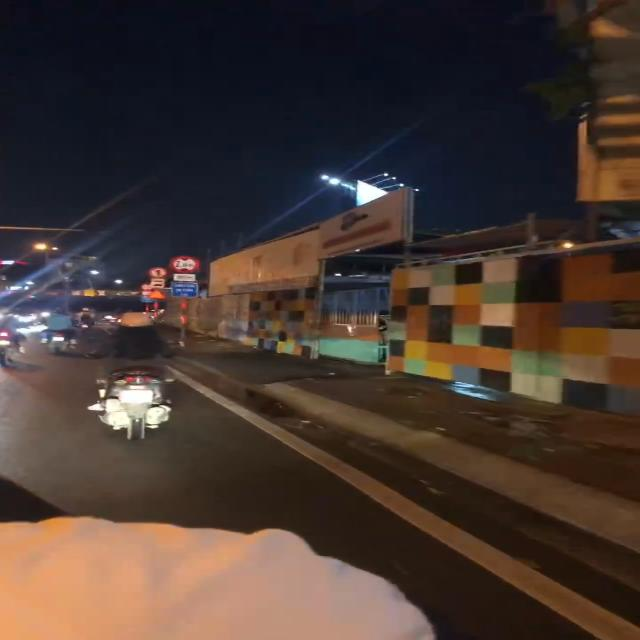Bien bao han che chieu cao: (170, 256, 200, 273)
